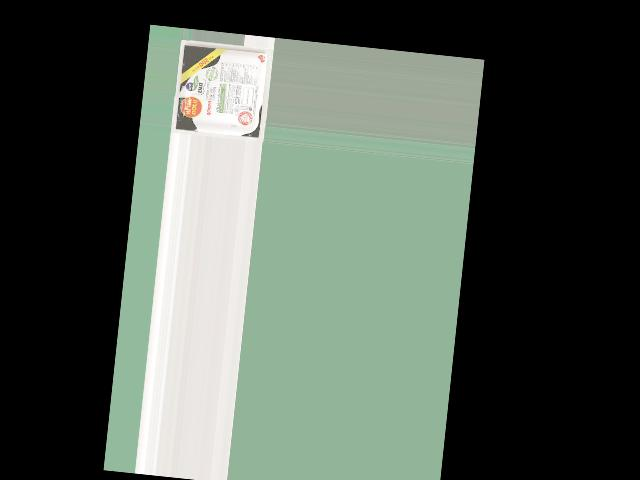cheese: (177, 40, 265, 138)
